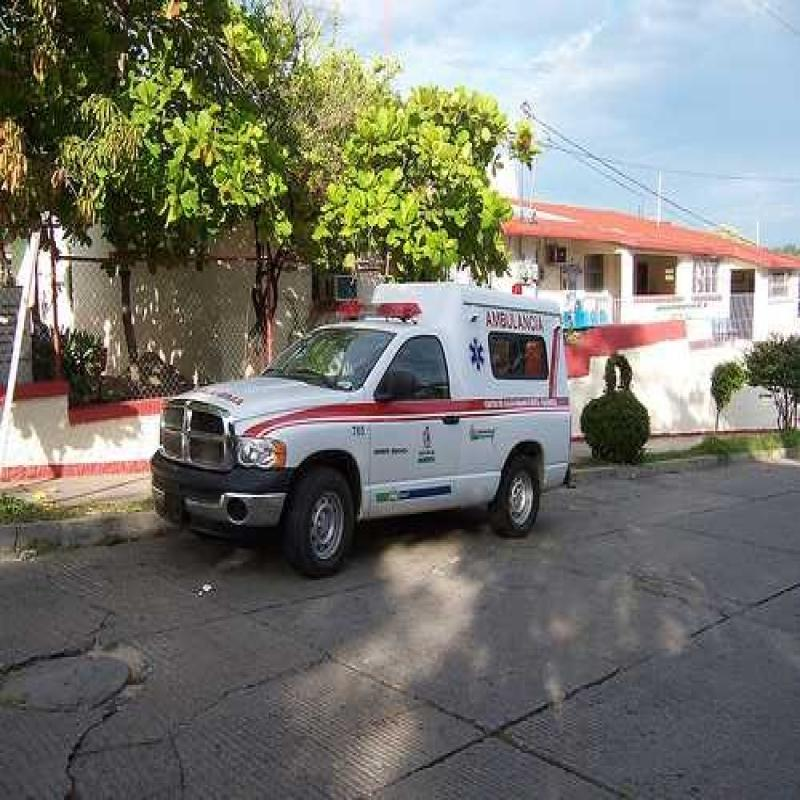AmbulanceSiren: (330, 280, 434, 326)
ambulance: (156, 262, 600, 546)
